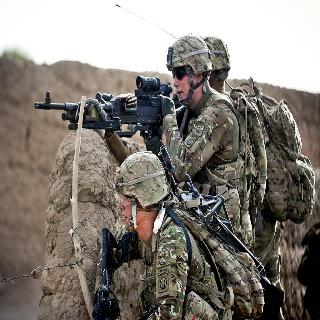rifle: (32, 73, 180, 155)
